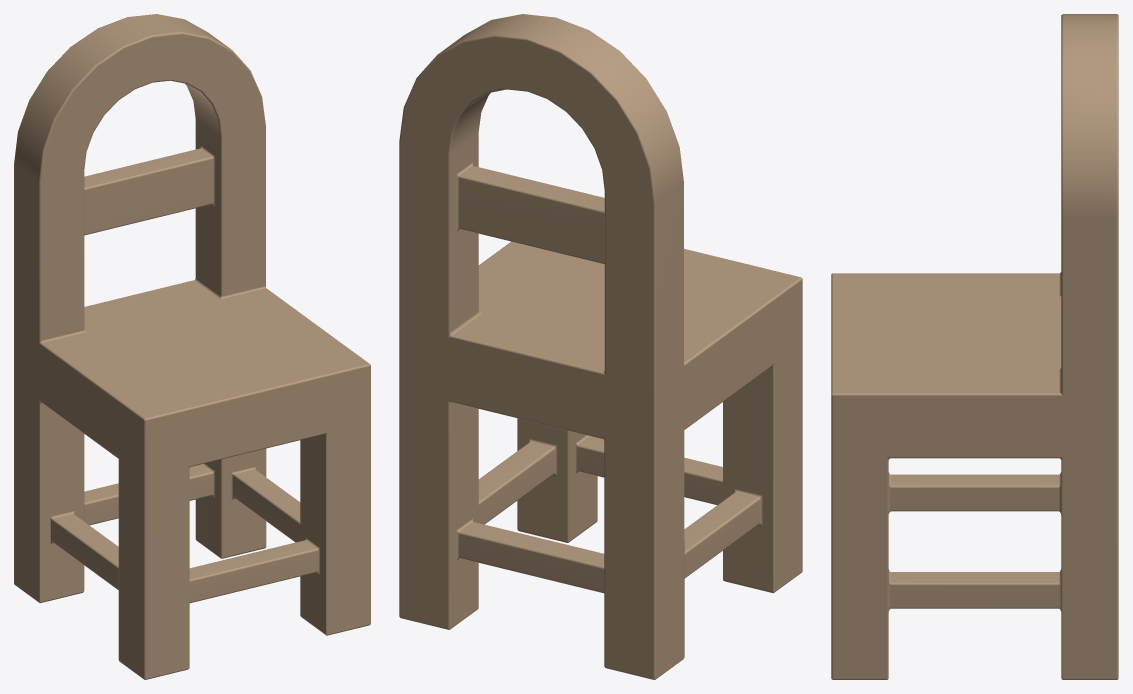
Rendered from chairRounded.glb.
3 views of the same model, side by side, from view 1: azimuth 30°, elevation 25°; view 2: azimuth 150°, elevation 25°; view 3: azimuth 270°, elevation 25° (orthographic). The views are drawn at different scales.
Visible parts, largest first — view 1: chairRounded(Clone); view 2: chairRounded(Clone); view 3: chairRounded(Clone).
Boxes of the visible parts, x1,y1,x2,y2 form: chairRounded(Clone): [14, 14, 370, 679]; chairRounded(Clone): [399, 14, 802, 679]; chairRounded(Clone): [831, 14, 1118, 679].
Size of the model in its own units: 0.2 by 0.455 by 0.2.
